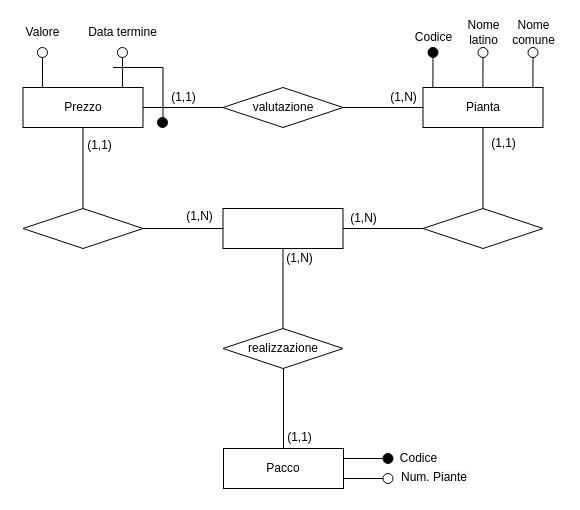
This 580x510 diagram has some shape labels left out. Each missing label, with the centre of its shape:
decisione: [82,228]
gestione: [482,228]
Manager: [282,228]
